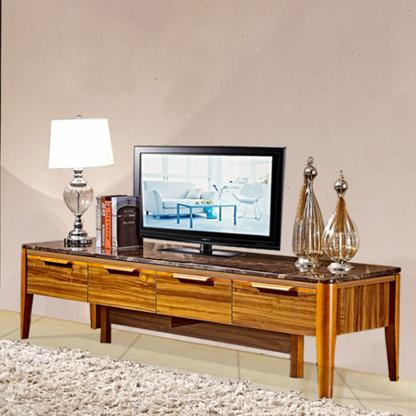TV stand: (20, 241, 401, 399)
